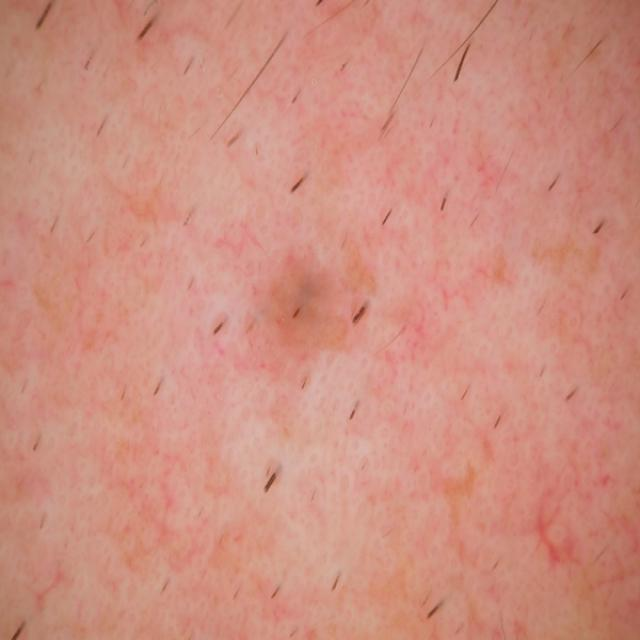NV: (242, 233, 374, 385)
